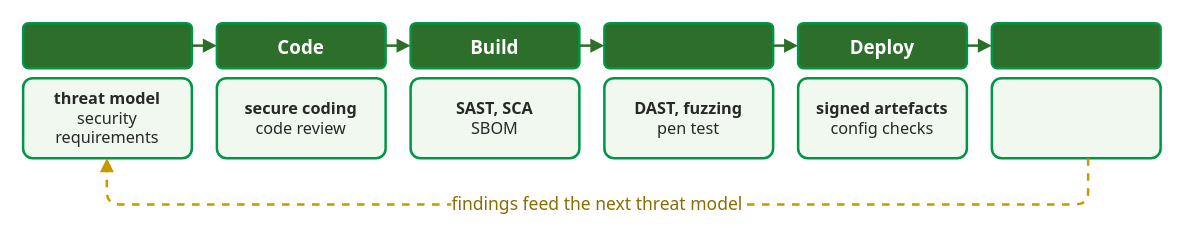
This 1183x236 diagram has some shape labels left out. Each missing label, with the box of its shape:
monitoring incident response: (990, 76, 1161, 159)
Operate: (990, 21, 1161, 69)
Plan: (21, 21, 192, 69)
Test: (602, 21, 774, 69)
